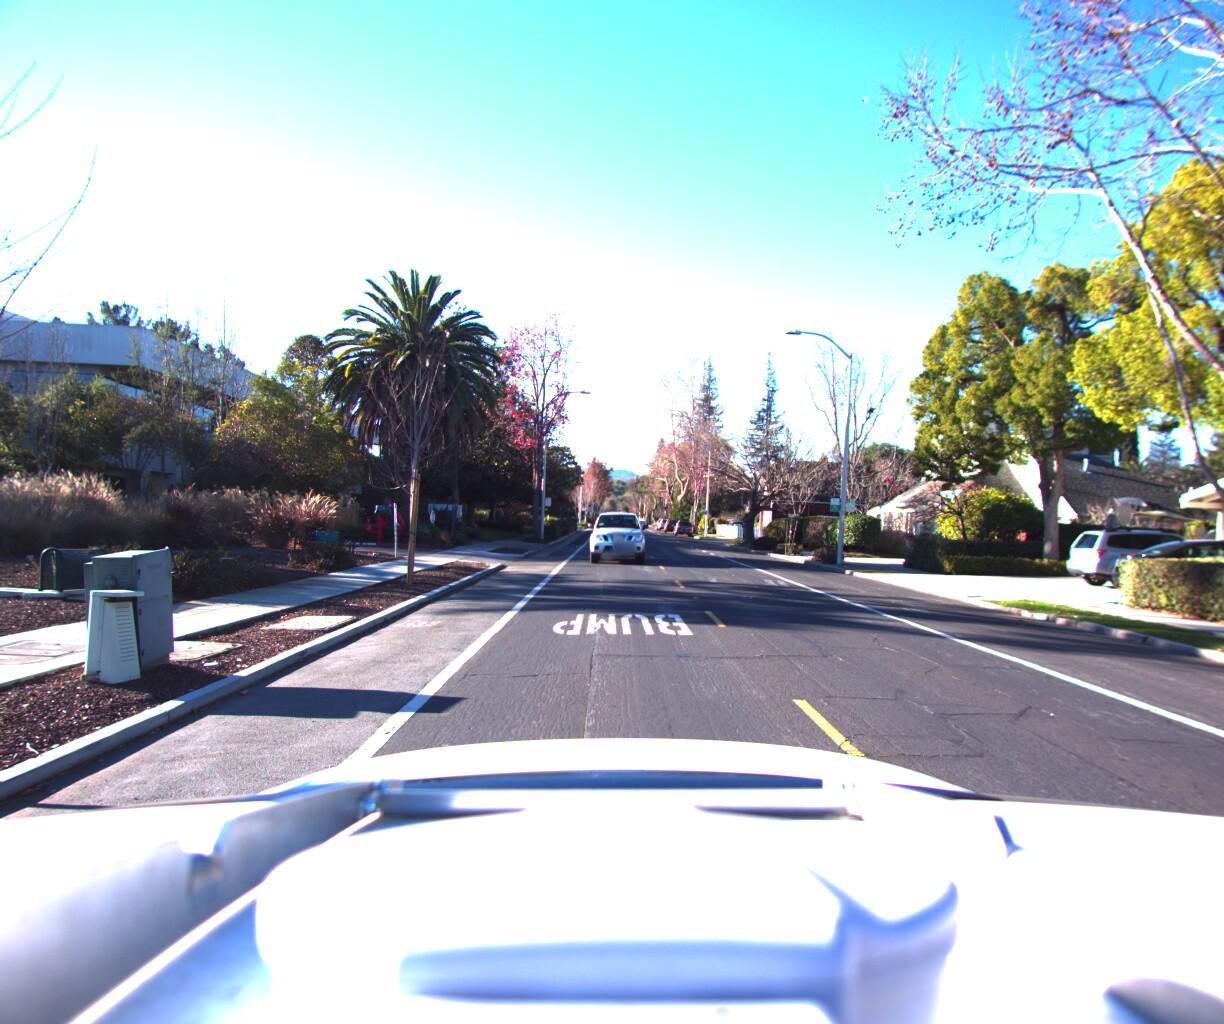car: (1054, 529, 1224, 600), (1100, 537, 1224, 610), (584, 511, 646, 573), (670, 524, 692, 542)
